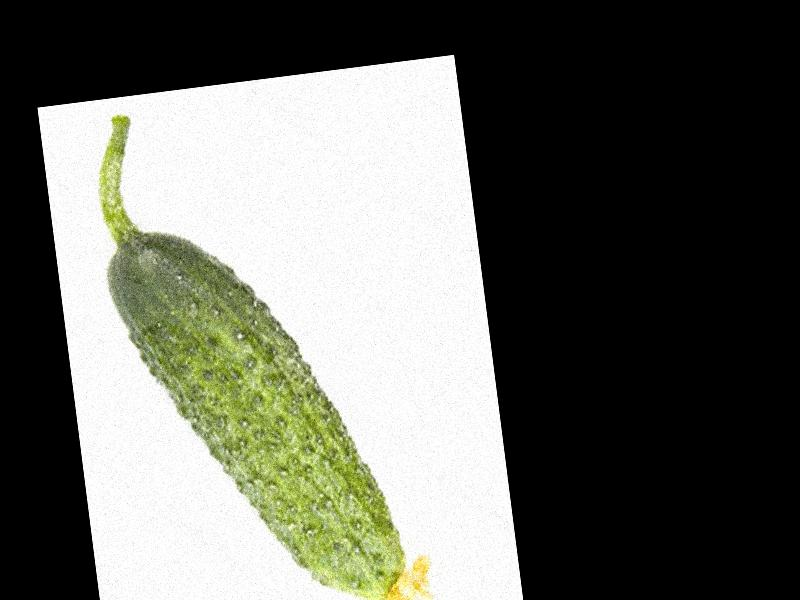Cucumber: (87, 87, 440, 600)
